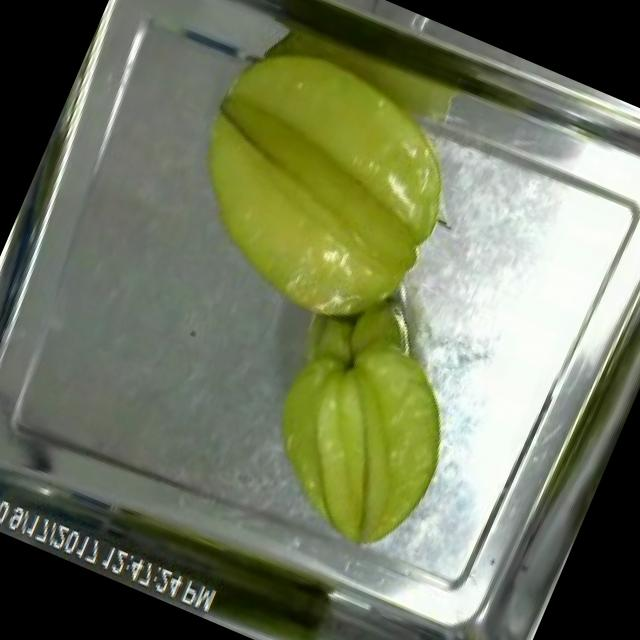fruit: (140, 7, 494, 358), (234, 303, 486, 573)
